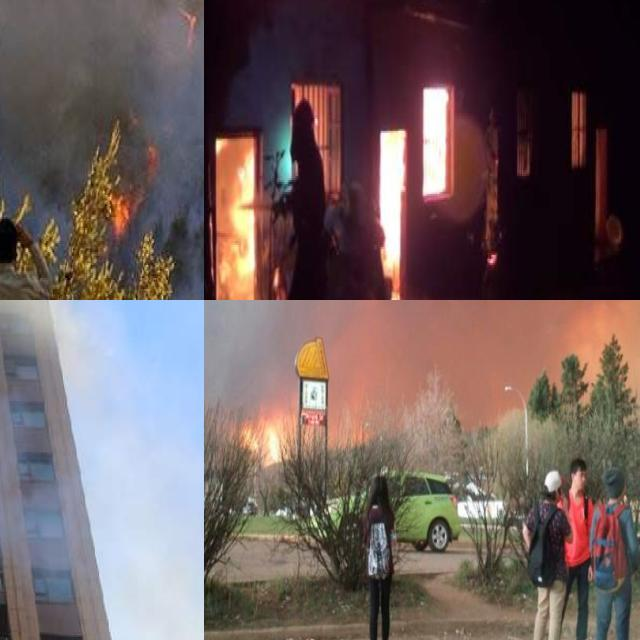fire: (212, 130, 255, 300), (242, 394, 298, 476), (378, 131, 402, 290), (420, 80, 448, 192), (106, 176, 136, 243), (176, 3, 204, 55), (144, 138, 158, 178)
smoke: (0, 351, 204, 640), (0, 0, 204, 250), (204, 300, 640, 416)
